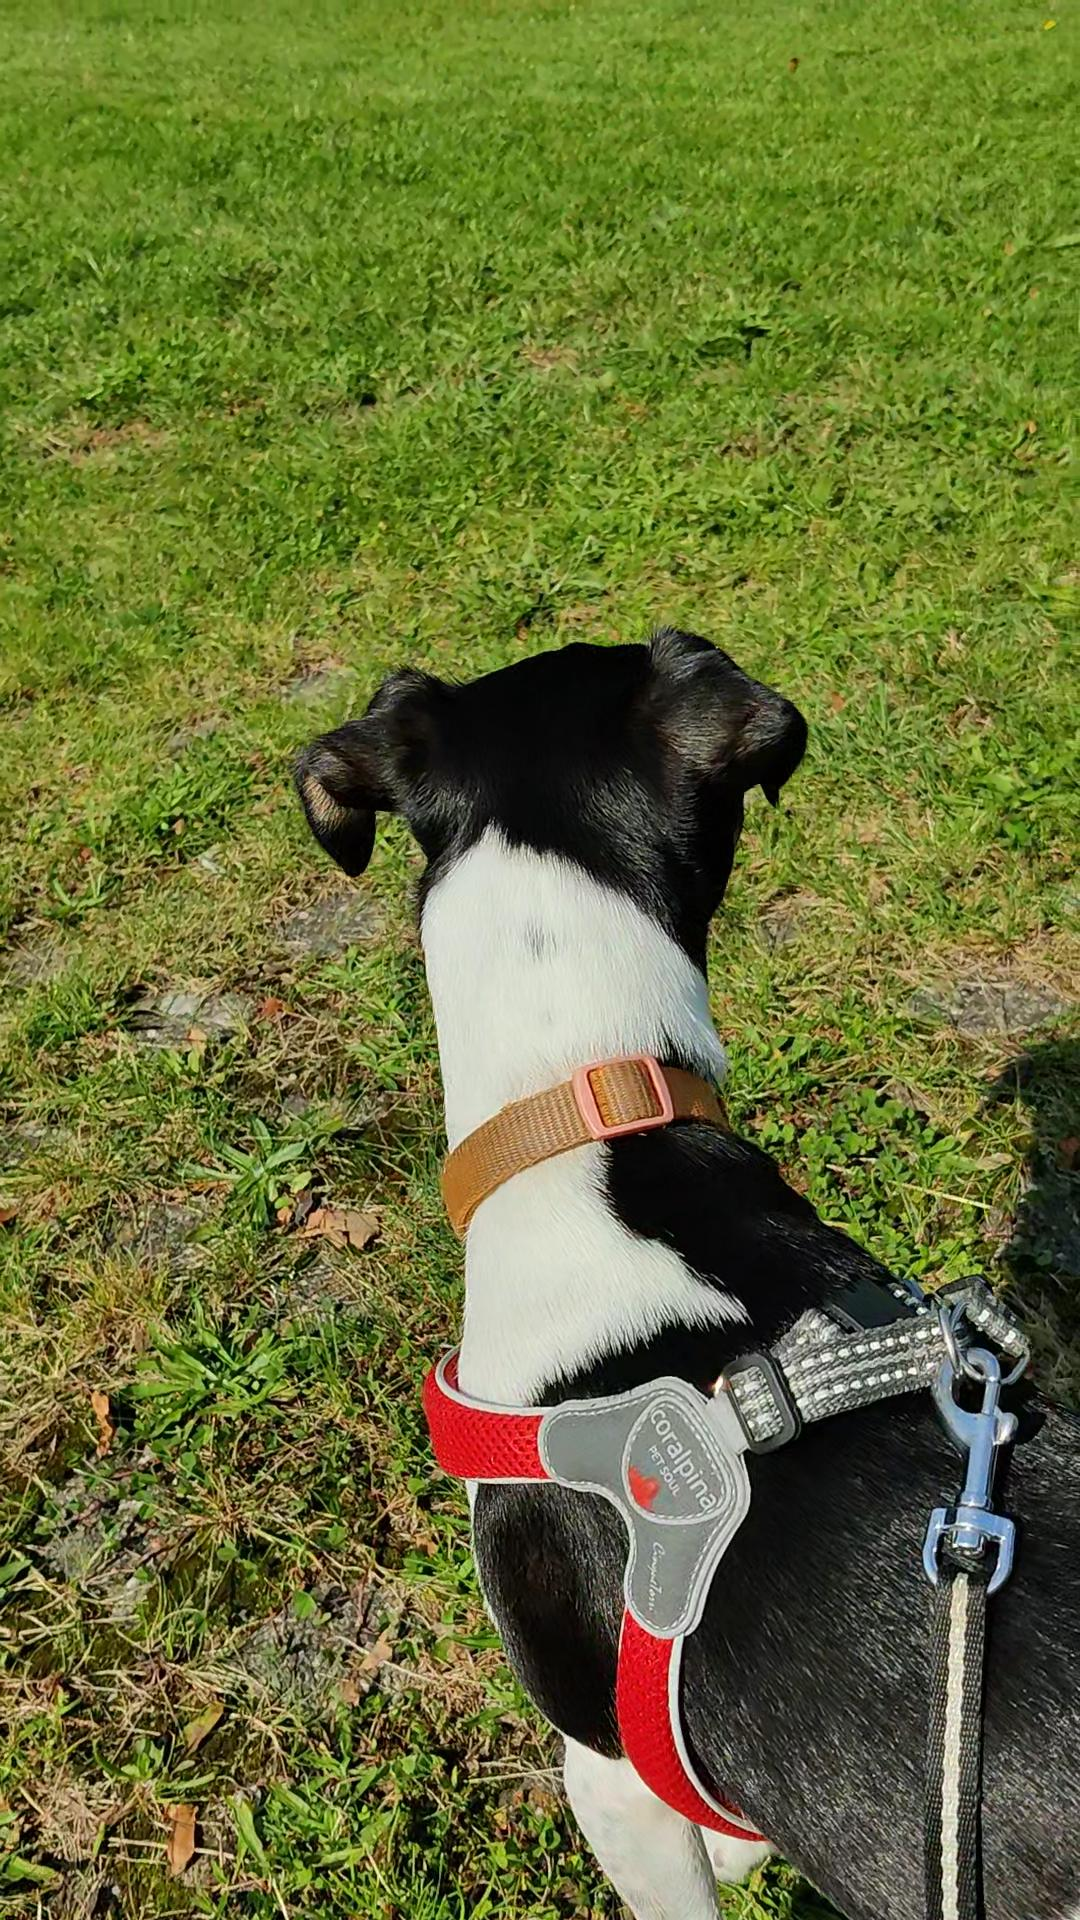Dog: (281, 621, 1079, 1919)
